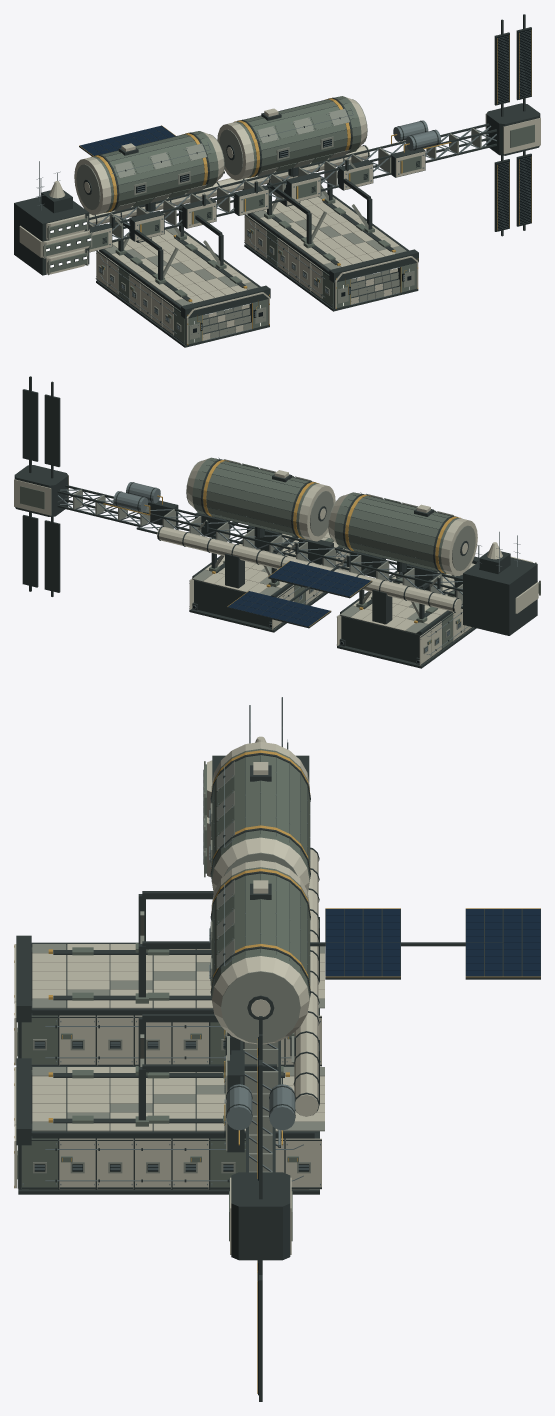
File: station_distant.glb
The picture shows the model from 3 angles, top to bottom: view 1: azimuth 30°, elevation 25°; view 2: azimuth 150°, elevation 25°; view 3: azimuth 270°, elevation 25°; orthographic projection. The views are drawn at different scales.
Visible parts, largest first — view 1: DistantStructure, DistantBay_1, DistantBay_2; view 2: DistantStructure, DistantBay_1, DistantBay_2; view 3: DistantStructure, DistantBay_2, DistantBay_1.
Boxes of the visible parts, x1,y1,x2,y2 form: DistantStructure: (14, 14, 540, 333); DistantBay_1: (95, 228, 270, 347); DistantBay_2: (244, 191, 418, 311); DistantStructure: (14, 376, 540, 664); DistantBay_1: (337, 556, 478, 668); DistantBay_2: (189, 531, 351, 632); DistantStructure: (45, 697, 540, 1401); DistantBay_2: (14, 1058, 324, 1194); DistantBay_1: (14, 935, 324, 1066).
Bounding box in the file's own units: 184 × 75 × 97.81.
